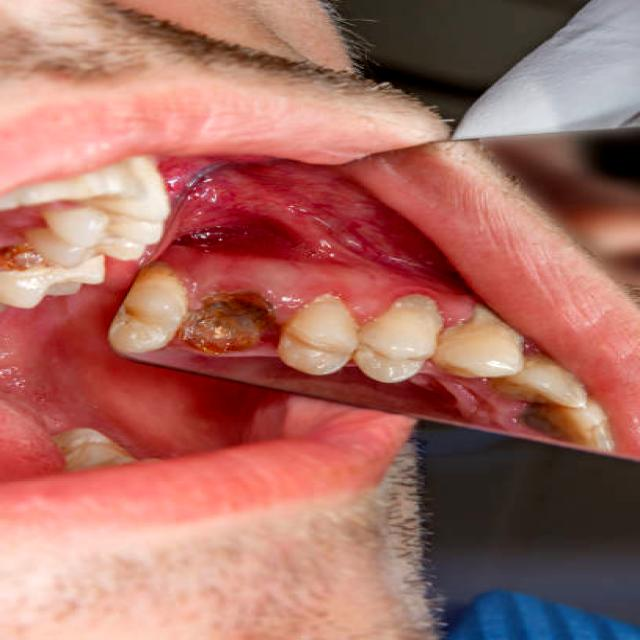cariess: (177, 296, 275, 352), (0, 245, 45, 270)
